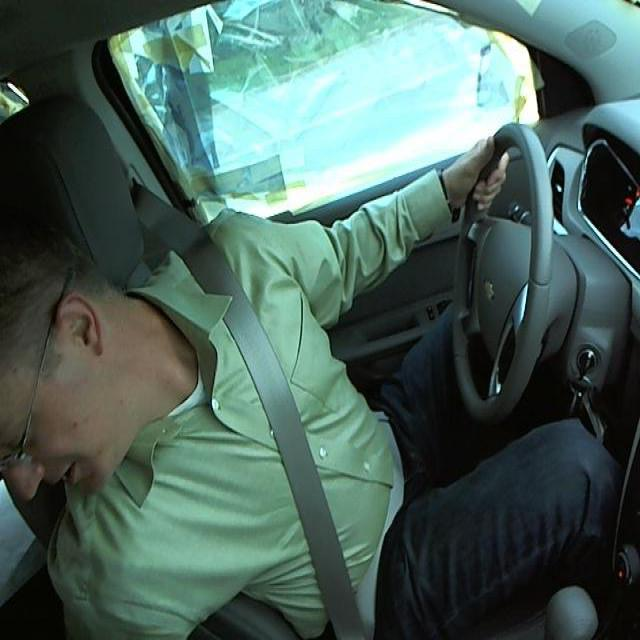seatbelt: (195, 264, 386, 639)
